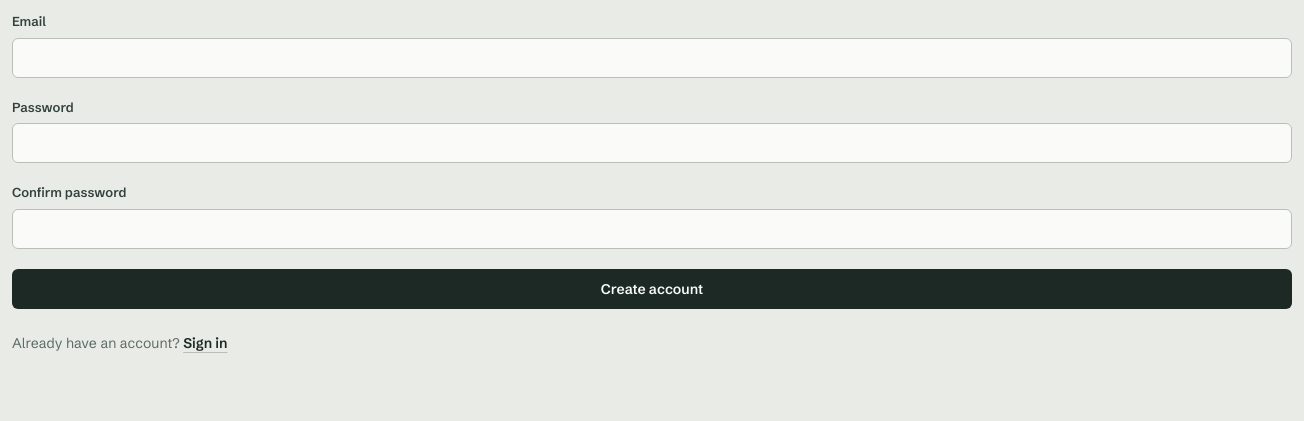
Scenario: RegisterForm › rejects a short password and a mismatched confirmation
The image size is (1304, 421).
Type "new@example.com" into the field labelled "Email" at (652, 58), box [12,38,1292,78]
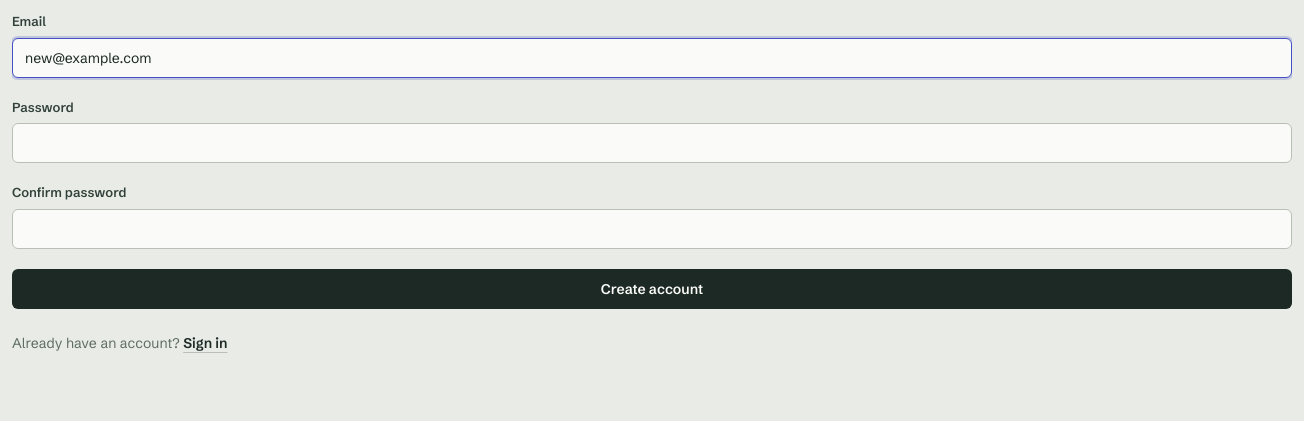
Type "short" into the password field labelled "Password" at (652, 143), box [12,123,1292,163]
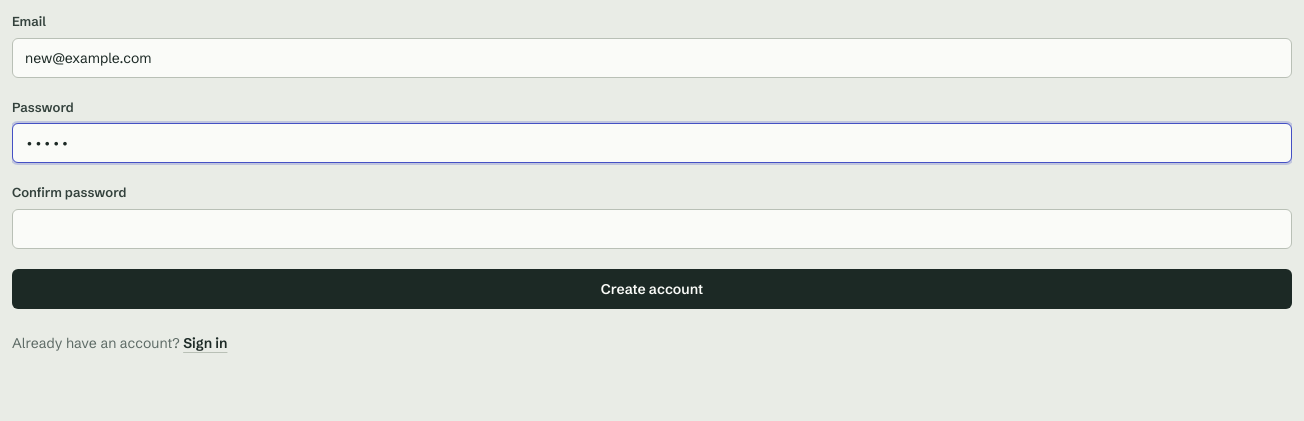
Type "different" into the password field labelled "Confirm password" at (652, 228), box [12,208,1292,248]
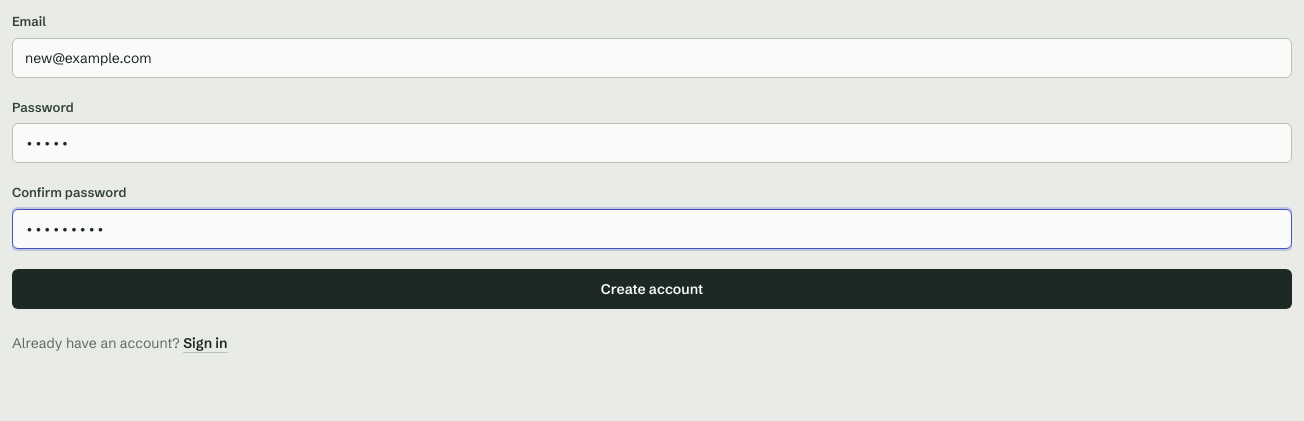
Click the button "Create account" at (652, 288), box [12,268,1292,308]
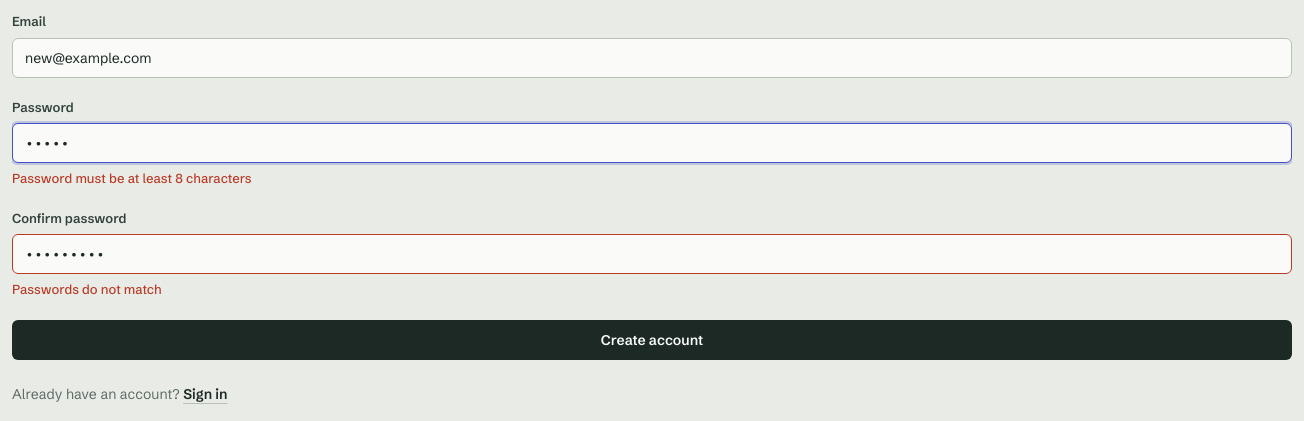
Now the text "Password must be at least 8 characters" is shown, box [12,170,252,186]
Now the text "Passwords do not match" is shown, box [12,281,162,297]
